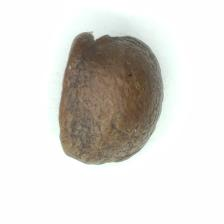NG: (79, 32, 131, 51)
